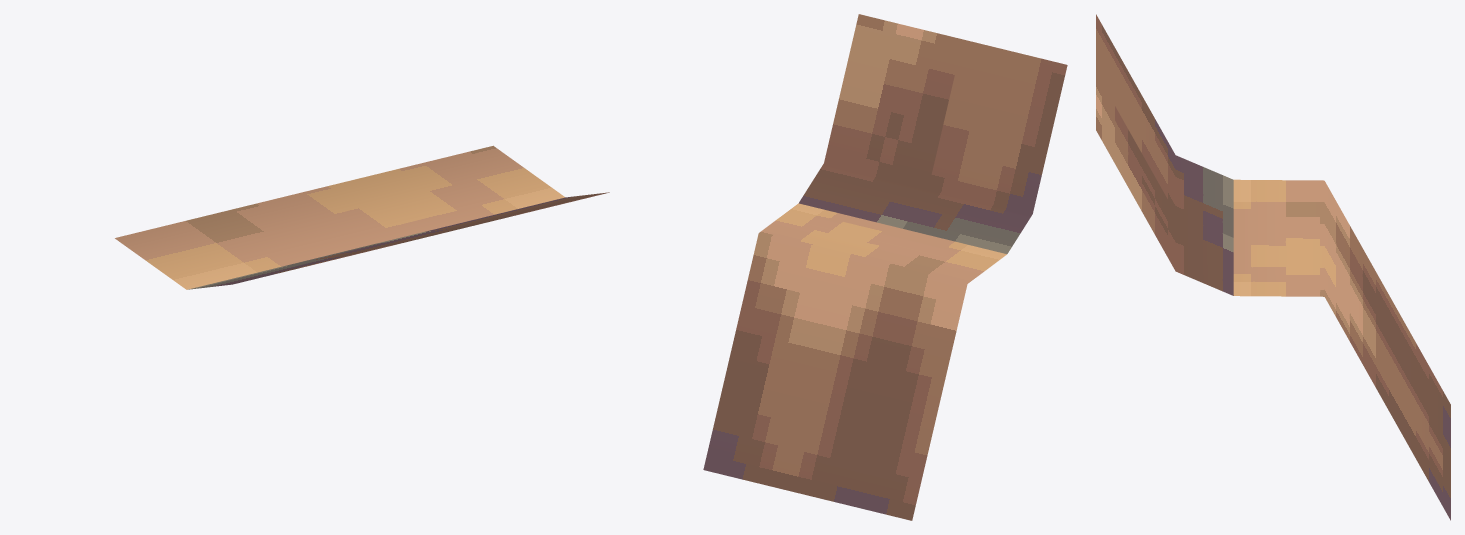
The picture shows the model from 3 angles, left to right: view 1: azimuth 30°, elevation 25°; view 2: azimuth 150°, elevation 25°; view 3: azimuth 270°, elevation 25°; orthographic projection. The views are drawn at different scales.
Size of the model in its own units: 1 by 1.57 by 1.29.
1 material, 1 textured.
